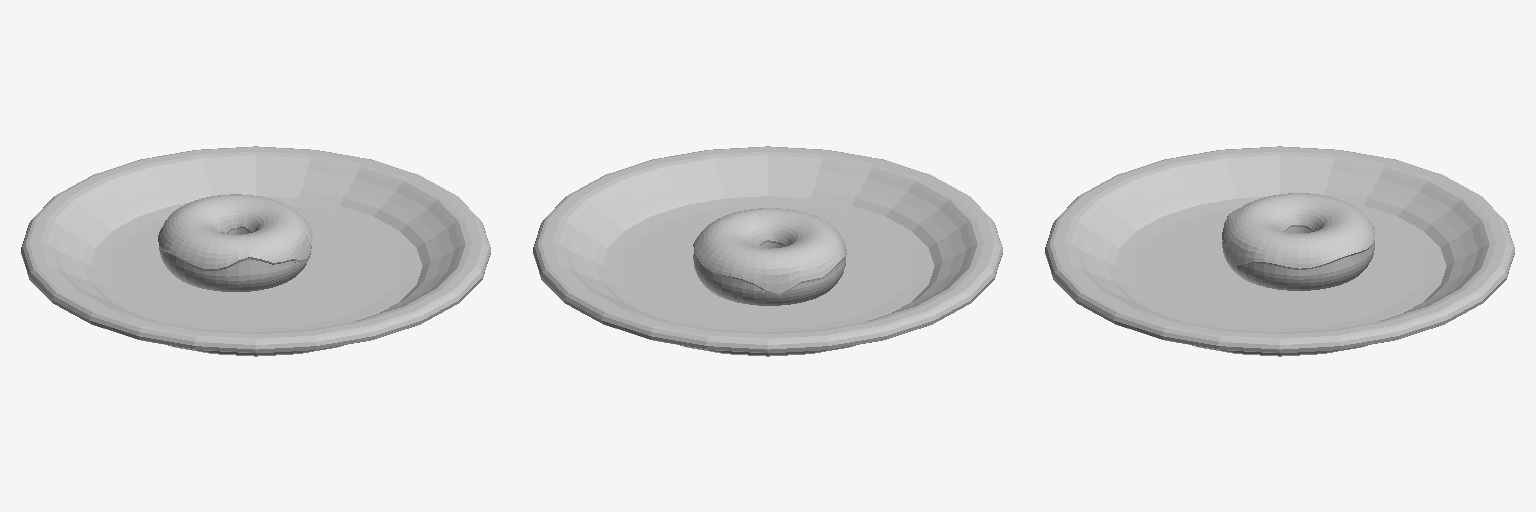
Rendered from DonutPlate.obj.
3 renders of one model, left to right at view 1: azimuth 30°, elevation 25°; view 2: azimuth 150°, elevation 25°; view 3: azimuth 270°, elevation 25°, orthographic.
Visible parts, largest first — view 1: PaperPlate, FrostedDonut_low:FrostedDonut_Low; view 2: PaperPlate, FrostedDonut_low:FrostedDonut_Low; view 3: PaperPlate, FrostedDonut_low:FrostedDonut_Low.
Boxes of the visible parts, x1,y1,x2,y2 form: PaperPlate: [21, 146, 490, 356]; FrostedDonut_low:FrostedDonut_Low: [158, 194, 312, 291]; PaperPlate: [533, 146, 1002, 356]; FrostedDonut_low:FrostedDonut_Low: [693, 208, 846, 305]; PaperPlate: [1045, 146, 1514, 356]; FrostedDonut_low:FrostedDonut_Low: [1222, 193, 1375, 290].
Size of the model in its own units: 3.93 by 0.6288 by 3.93.